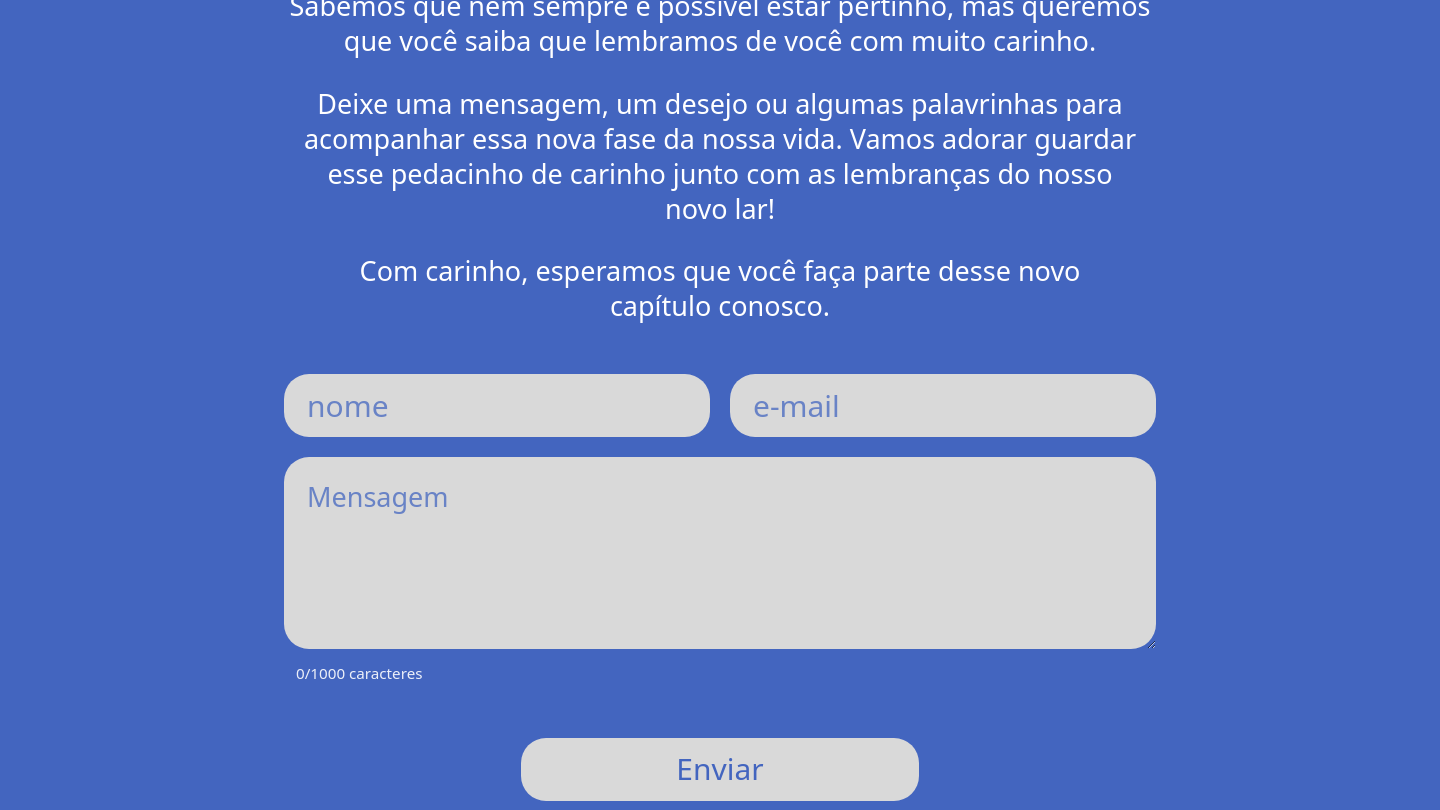
Test case: mensagem › envia a mensagem com nome e e-mail e agradece
This screenshot has width=1440, height=810.
(page scrolled)
Type "Tia Lúcia" into the field labelled "nome" at point(497, 405), box x1=284 y1=374 x2=710 y2=437
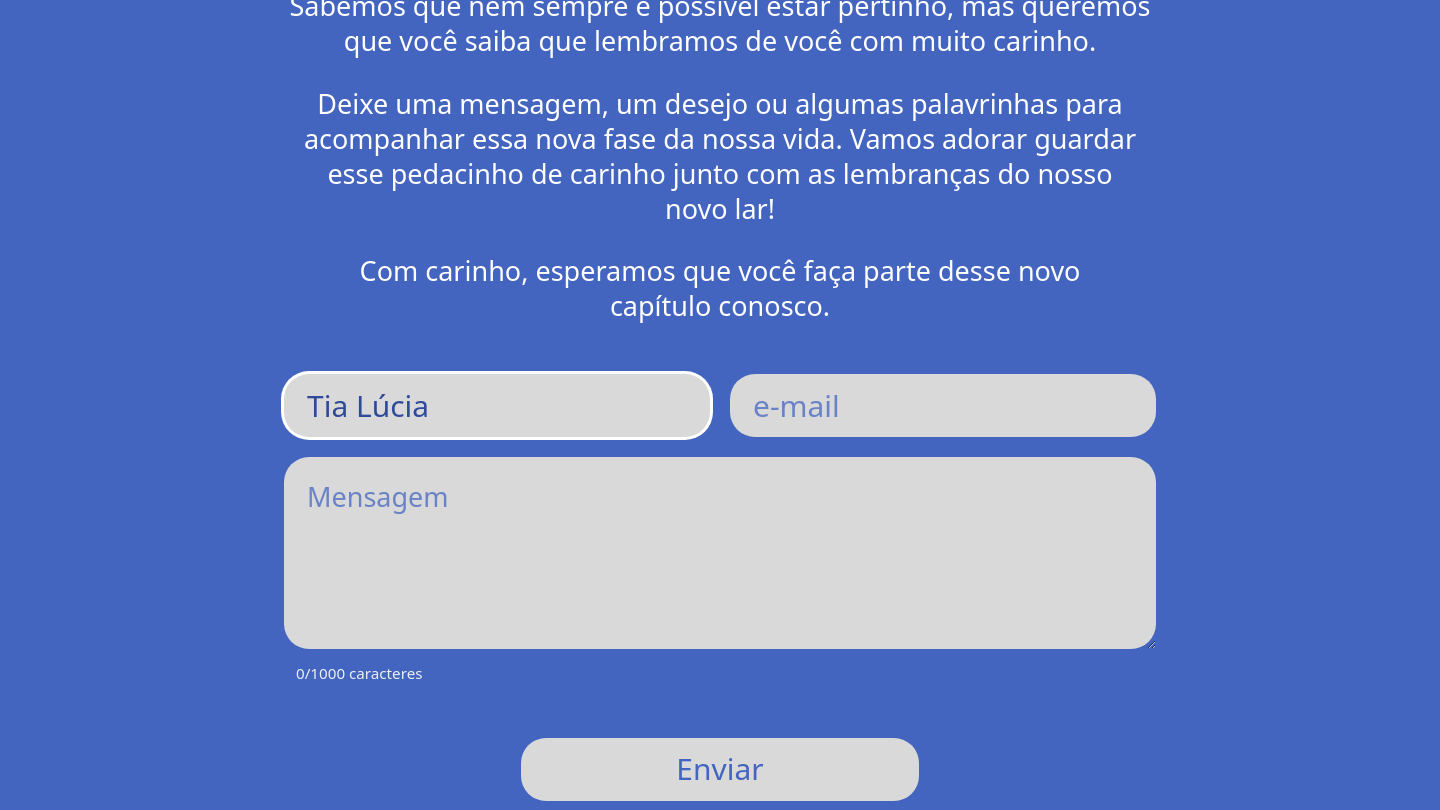
Type "lucia@ex.com" into the field labelled "e-mail" at point(943, 405), box x1=730 y1=374 x2=1156 y2=437
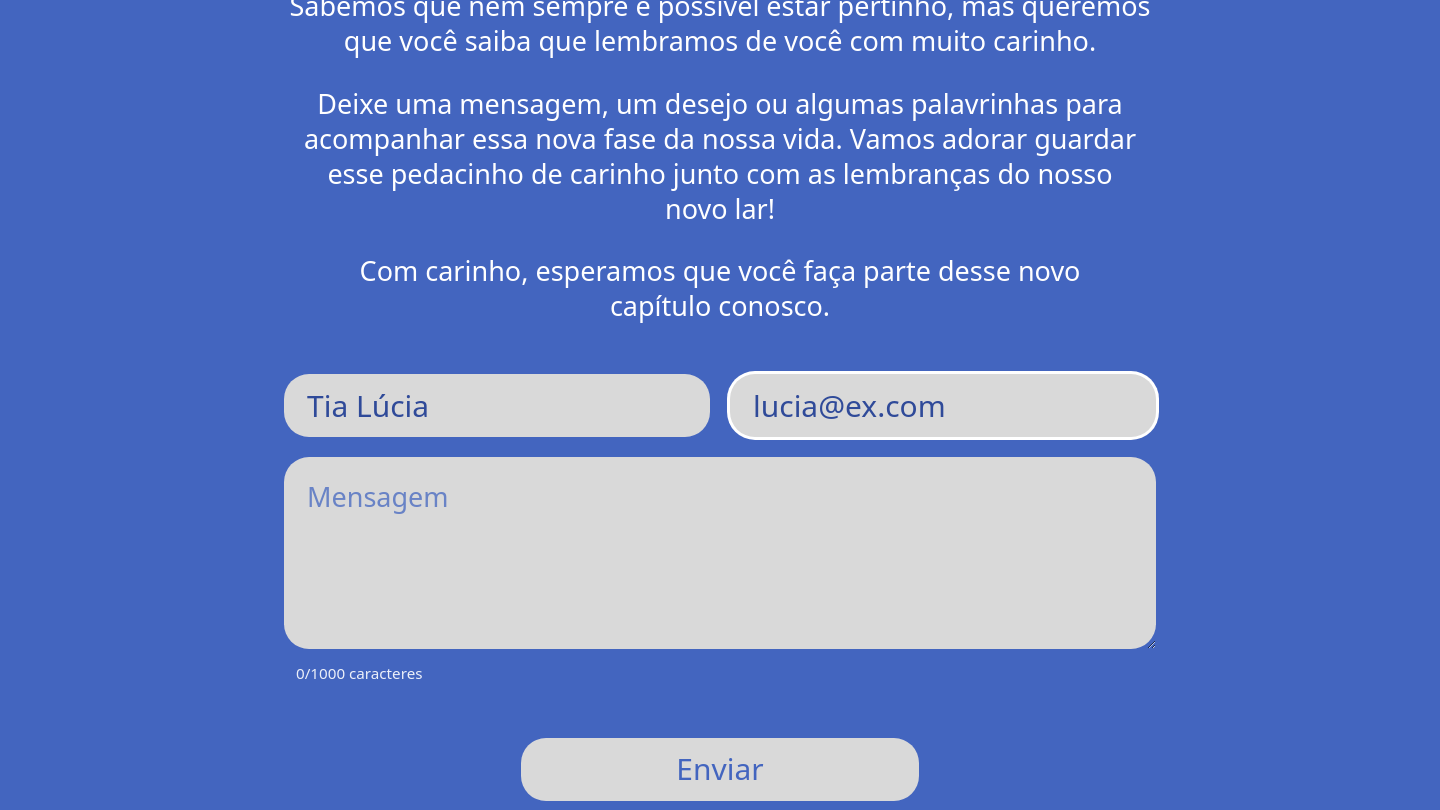
Type "Felicidades!" into the text box labelled "Mensagem" at point(720, 553), box x1=284 y1=457 x2=1156 y2=649
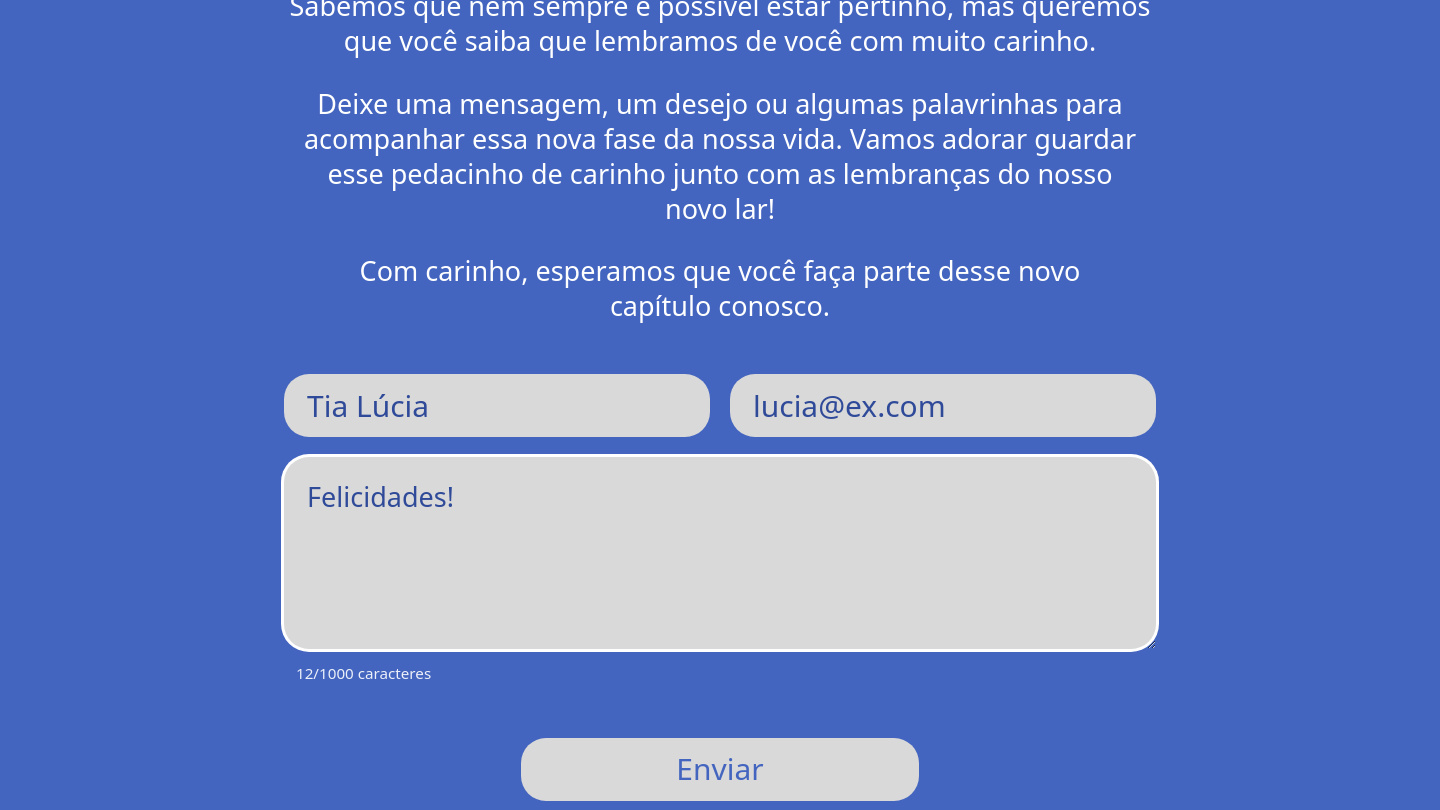
Click the button "Enviar" at point(720, 769), box x1=521 y1=738 x2=919 y2=801
(page scrolled)
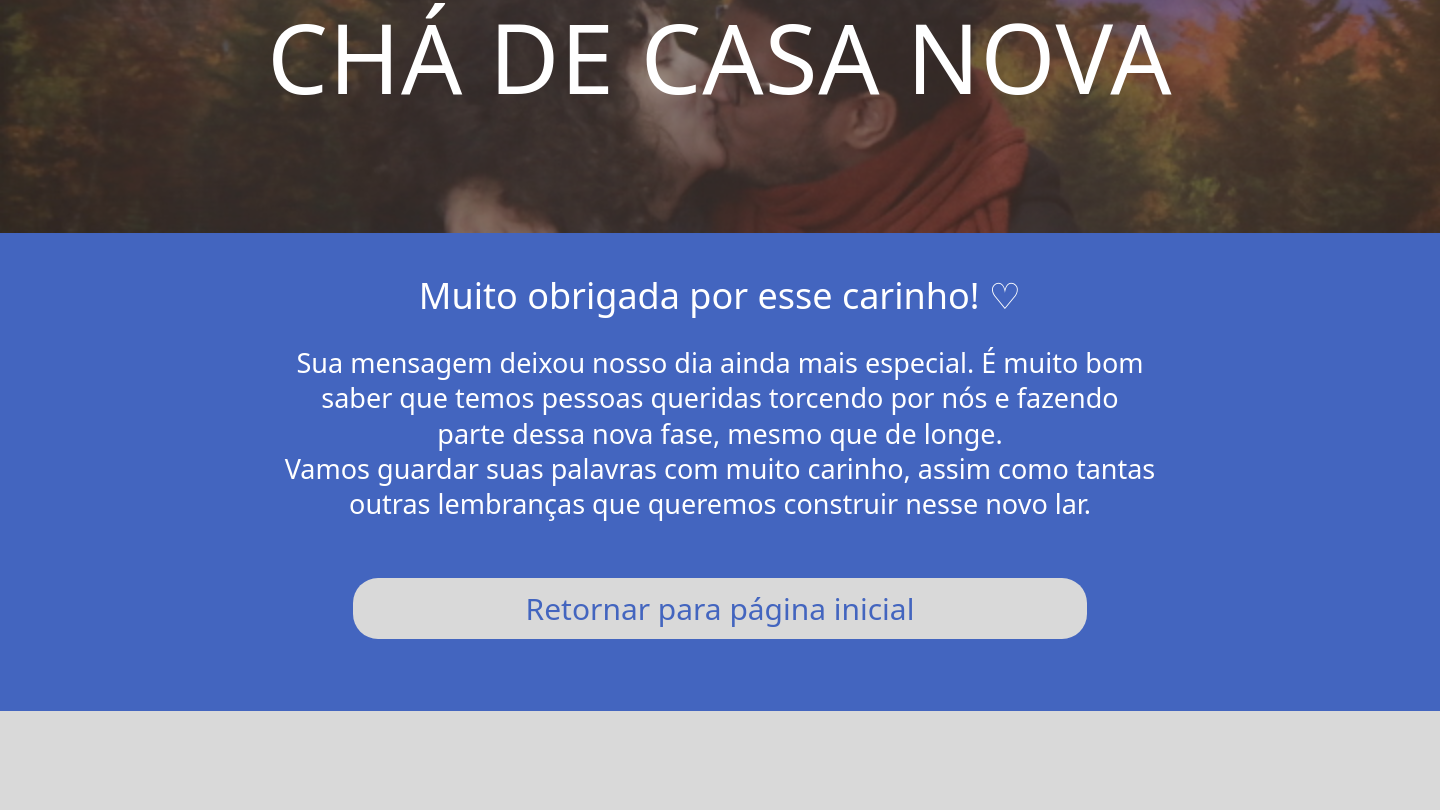
Expected: the heading "Muito obrigada por esse carinho! ♡" is shown, x1=419 y1=271 x2=1021 y2=320
